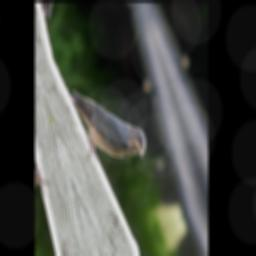Swallow: (65, 59, 151, 188)
